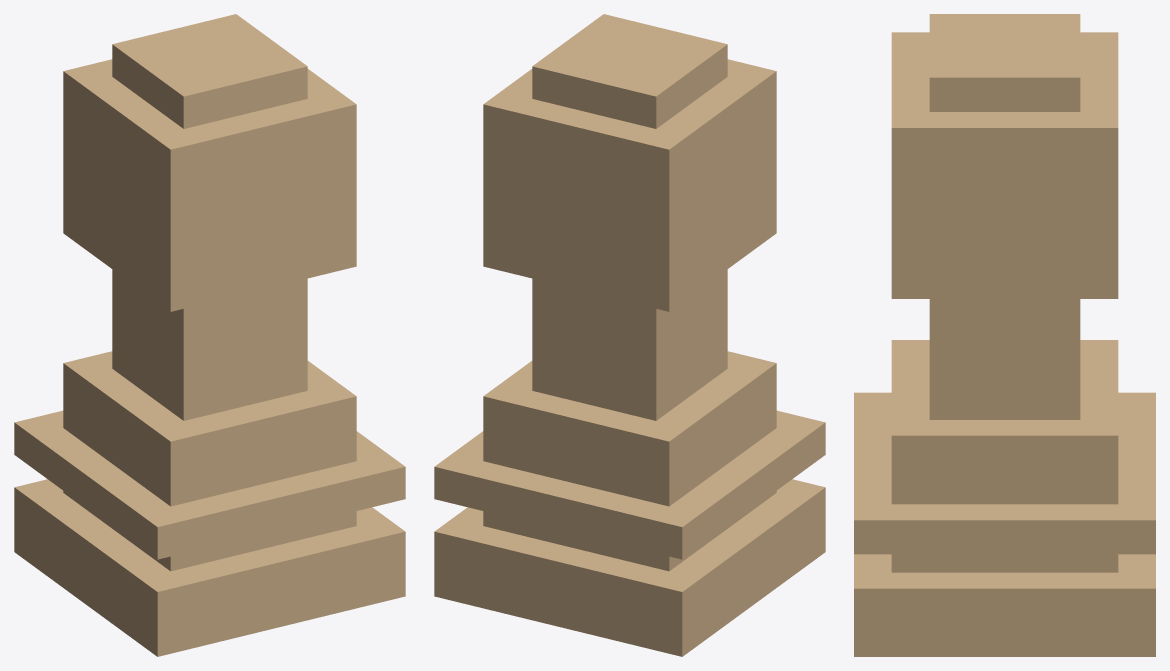
The model's file is token-v1-tan.gltf.
3 views of the same model, side by side, from view 1: azimuth 30°, elevation 25°; view 2: azimuth 150°, elevation 25°; view 3: azimuth 270°, elevation 25° (orthographic). The views are drawn at different scales.
Parts seen in each view (by area): view 1: Untitled; view 2: Untitled; view 3: Untitled.
Part boxes in pixels (left/top/right/bottom): Untitled: left=14, top=14, right=405, bottom=656; Untitled: left=434, top=14, right=825, bottom=656; Untitled: left=854, top=14, right=1155, bottom=656.
Size of the model in its own units: 0.8 by 1.6 by 0.8.
1 material, 1 textured.
